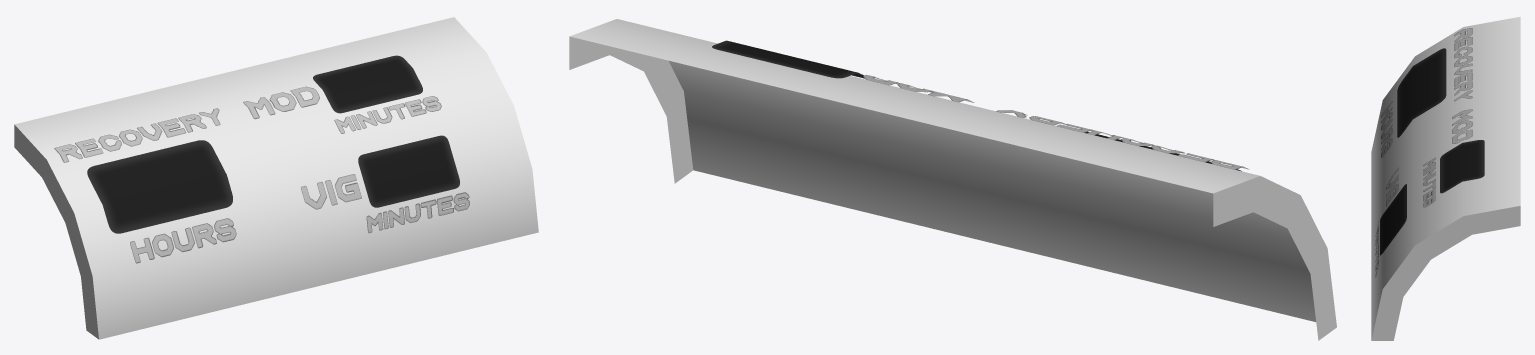
The model's file is Arm - HR Only - One Screen.fbx.
3 views of the same model, side by side, from view 1: azimuth 30°, elevation 25°; view 2: azimuth 150°, elevation 25°; view 3: azimuth 270°, elevation 25° (orthographic). The views are drawn at different scales.
Visible parts, largest first — view 1: Arm Info; view 2: Arm Info; view 3: Arm Info.
Part boxes in pixels (x1=…): Arm Info: x1=14, y1=17, x2=538, y2=339; Arm Info: x1=569, y1=19, x2=1336, y2=340; Arm Info: x1=1371, y1=16, x2=1520, y2=340.
Bounding box in the file's own units: 0.6 × 0.204 × 0.204.
